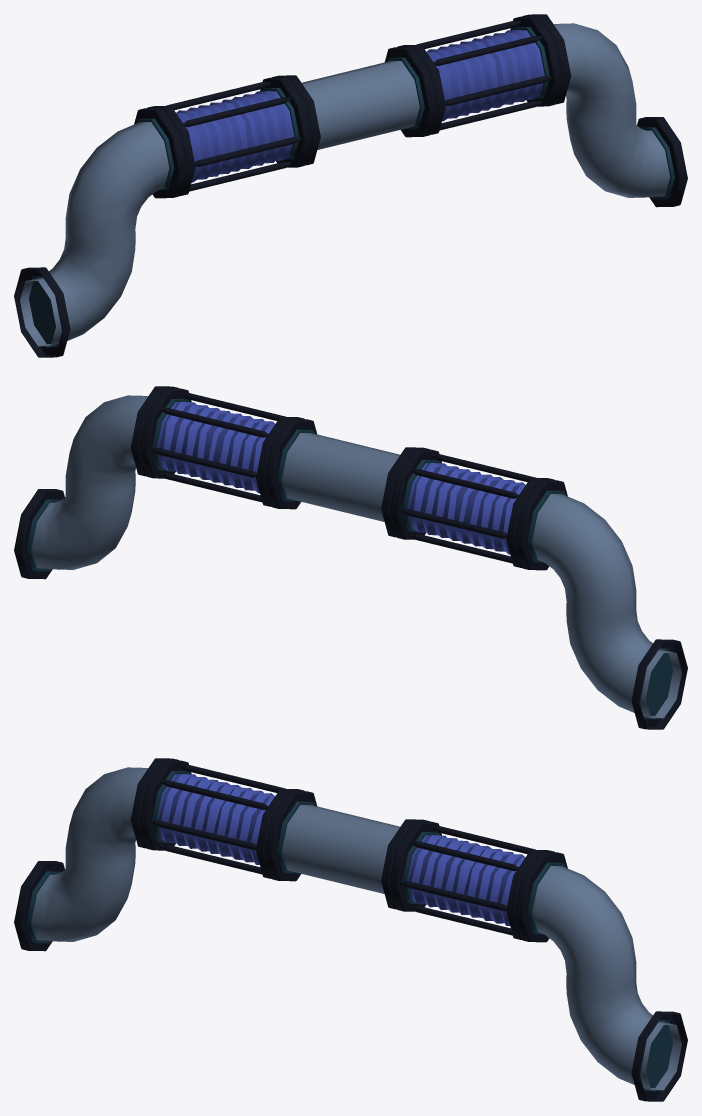
Rendered from PipeComplexSmall_A_11.fbx.
The picture shows the model from 3 angles, top to bottom: view 1: azimuth 30°, elevation 25°; view 2: azimuth 150°, elevation 25°; view 3: azimuth 330°, elevation 25°; orthographic projection.
Visible parts, largest first — view 1: PipeComplexSmall_A_11.001; view 2: PipeComplexSmall_A_11.001; view 3: PipeComplexSmall_A_11.001.
Boxes of the visible parts, bbox=[...] form: PipeComplexSmall_A_11.001: bbox=[14, 14, 687, 357]; PipeComplexSmall_A_11.001: bbox=[14, 386, 687, 729]; PipeComplexSmall_A_11.001: bbox=[14, 758, 687, 1101].
Size of the model in its own units: 1 by 0.3356 by 0.1356.
